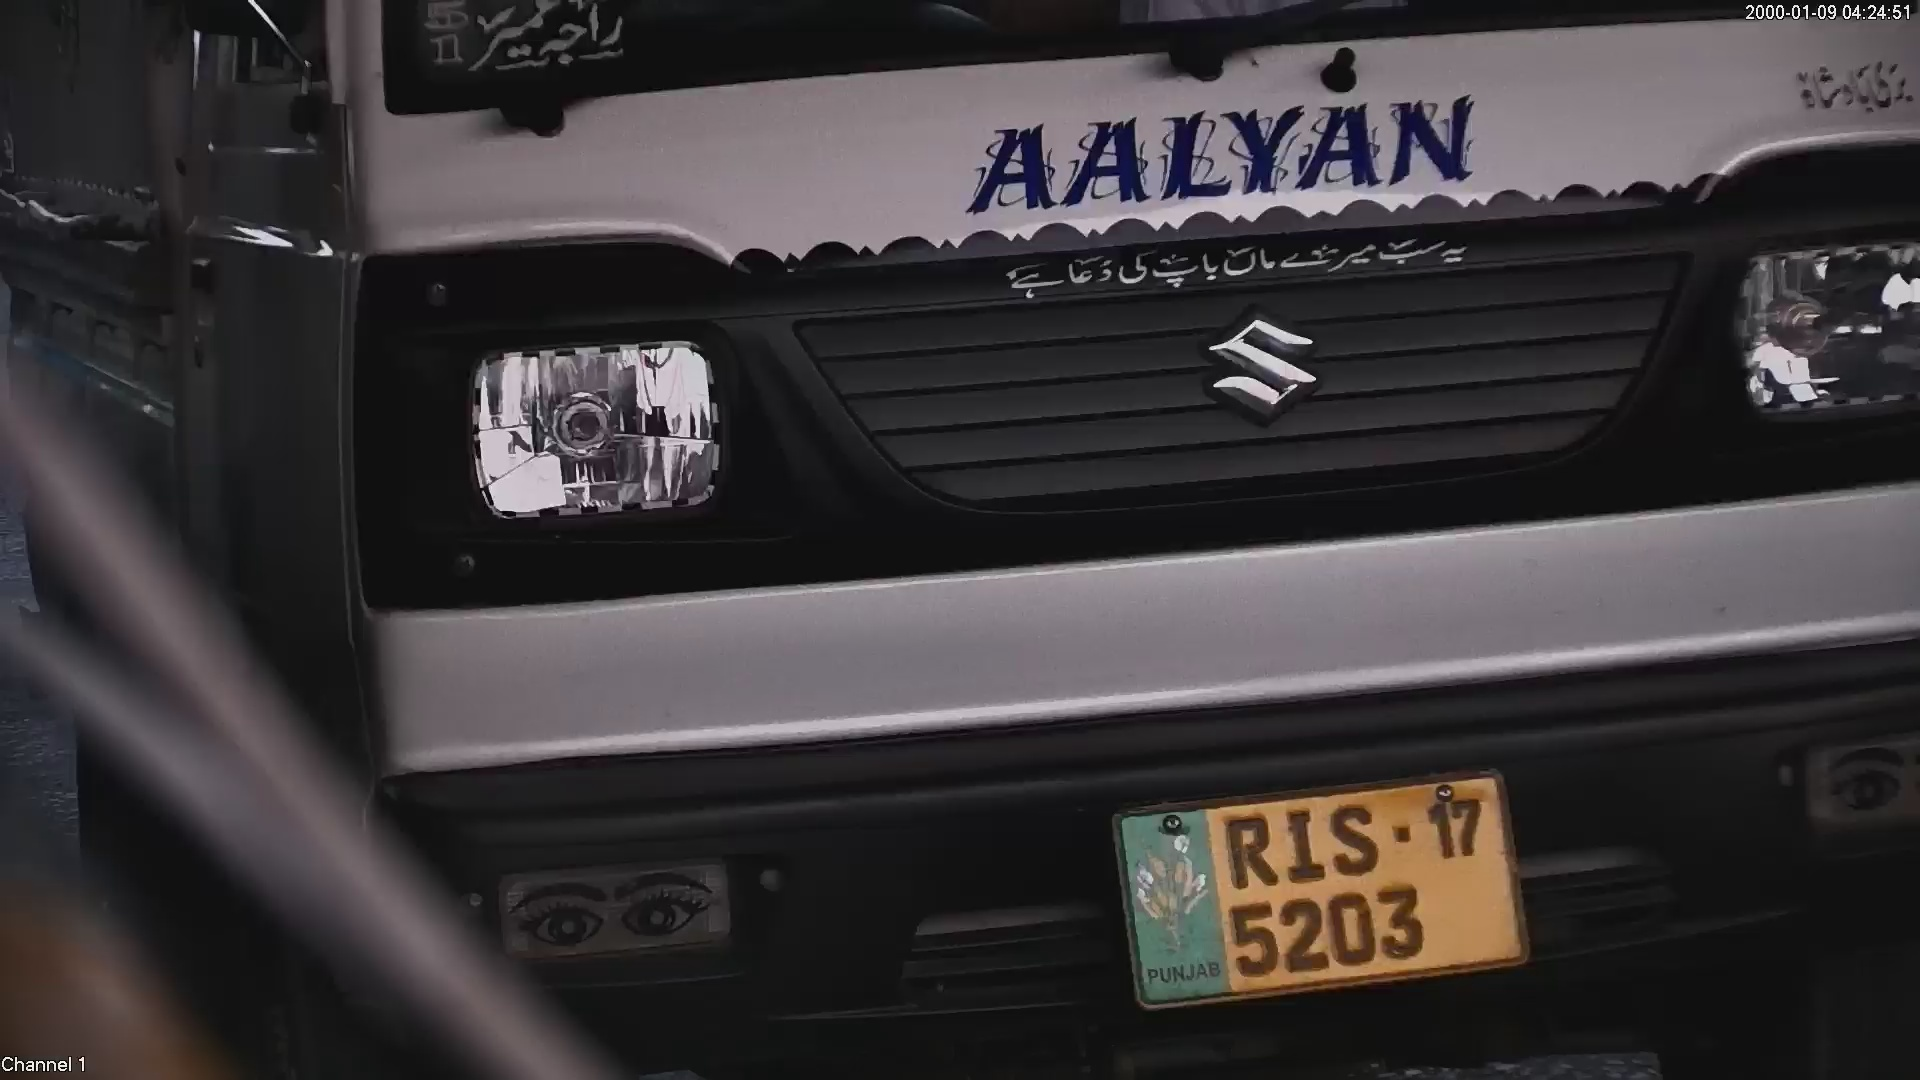Number_Plate: (1100, 762, 1547, 1005)
Undefined: (447, 336, 737, 527), (969, 112, 1476, 188), (1734, 236, 1919, 427), (480, 855, 758, 962), (987, 227, 1476, 281), (1782, 723, 1915, 842), (1204, 303, 1319, 416)
